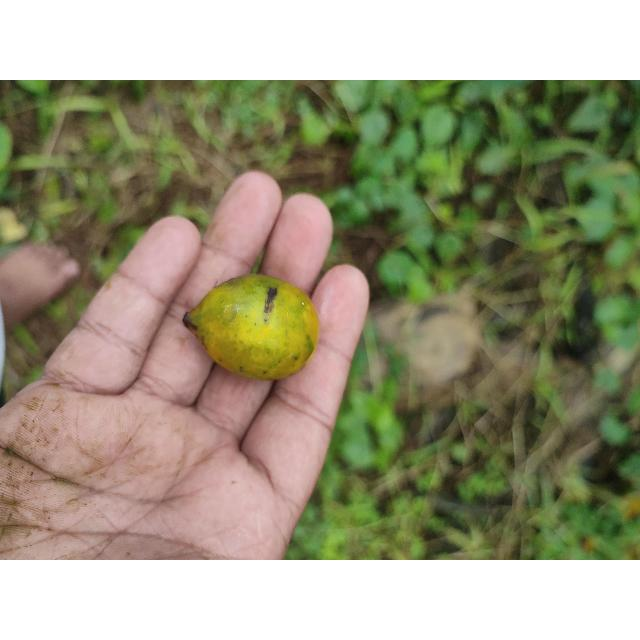good: (181, 273, 321, 382)
